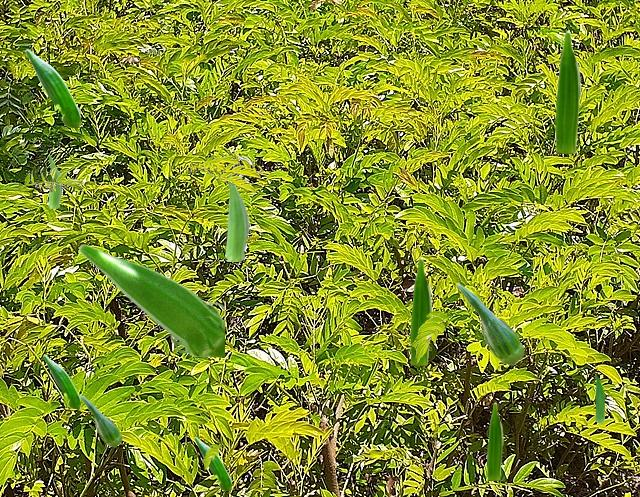okra: (78, 244, 223, 355), (456, 282, 523, 364), (25, 49, 79, 126), (555, 30, 580, 152), (410, 257, 431, 364), (80, 394, 121, 446), (194, 437, 230, 489), (43, 355, 79, 407), (225, 182, 248, 260), (487, 402, 502, 479), (48, 155, 61, 207), (595, 374, 603, 421)
